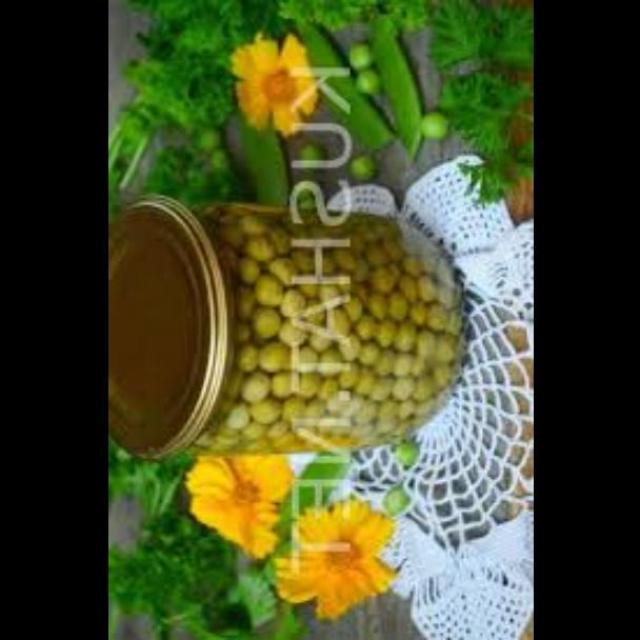peas: (208, 216, 452, 424), (342, 47, 382, 105), (416, 110, 464, 157), (340, 148, 384, 192), (373, 488, 423, 526), (392, 436, 432, 473), (291, 145, 326, 181)
